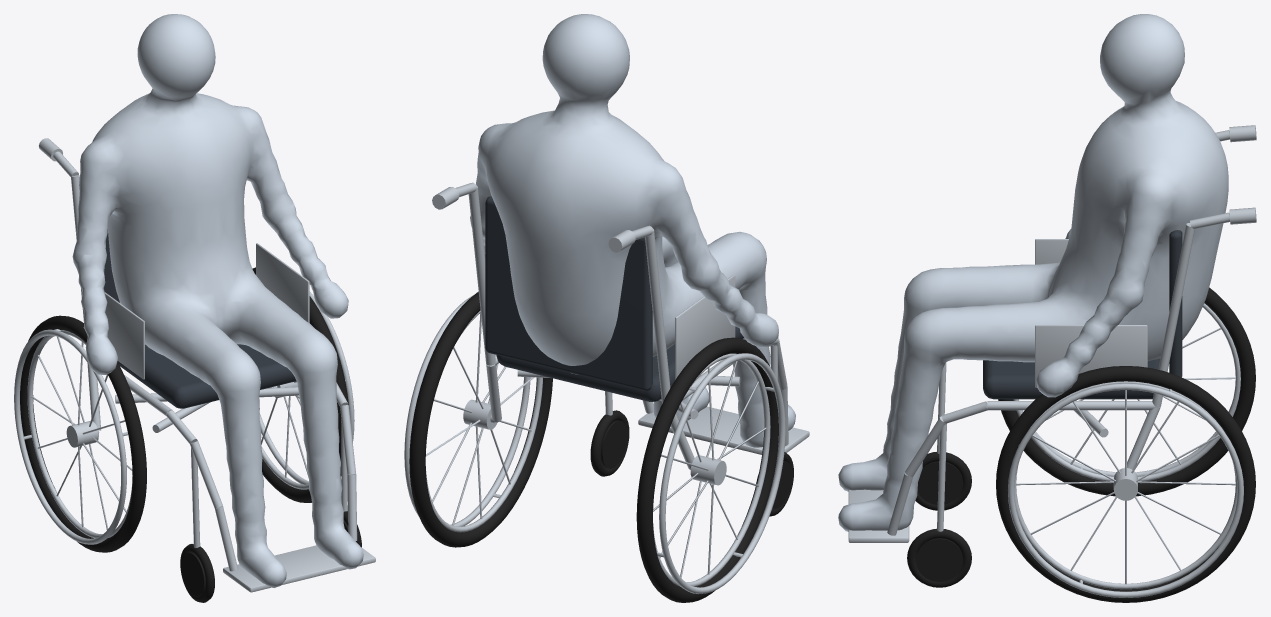
The model's file is wheelchair_avatar.glb.
3 renders of one model, left to right at view 1: azimuth 30°, elevation 25°; view 2: azimuth 150°, elevation 25°; view 3: azimuth 270°, elevation 25°, orthographic. The views are drawn at different scales.
Visible parts, largest first — view 1: Figure, Wheel_L_Rim, Chair_Frame, Chair_Plates, Wheel_L_Tire, Chair_Seat, Wheel_R_Rim, Wheel_R_Tire, Caster_L; view 2: Figure, Chair_Seat, Wheel_L_Rim, Wheel_L_Tire, Chair_Frame, Wheel_R_Tire, Wheel_R_Rim, Chair_Plates, Caster_R, Caster_L; view 3: Figure, Wheel_R_Rim, Wheel_R_Tire, Chair_Frame, Chair_Plates, Wheel_L_Tire, Chair_Seat, Wheel_L_Rim, Caster_R, Caster_L.
Part boxes in pixels (bbox=[...]): Figure: bbox=[72, 14, 363, 587]; Wheel_L_Rim: bbox=[14, 329, 132, 544]; Chair_Frame: bbox=[39, 138, 357, 571]; Chair_Plates: bbox=[105, 243, 375, 592]; Wheel_L_Tire: bbox=[20, 315, 146, 552]; Chair_Seat: bbox=[104, 229, 296, 408]; Wheel_R_Rim: bbox=[259, 291, 354, 489]; Wheel_R_Tire: bbox=[252, 267, 348, 502]; Caster_L: bbox=[180, 544, 214, 602]; Figure: bbox=[470, 14, 795, 447]; Chair_Seat: bbox=[485, 196, 743, 401]; Wheel_L_Rim: bbox=[653, 353, 785, 593]; Wheel_L_Tire: bbox=[636, 337, 778, 602]; Chair_Frame: bbox=[432, 182, 788, 469]; Wheel_R_Tire: bbox=[409, 291, 552, 547]; Wheel_R_Rim: bbox=[404, 295, 542, 532]; Chair_Plates: bbox=[638, 275, 809, 454]; Caster_R: bbox=[590, 410, 629, 476]; Caster_L: bbox=[756, 452, 793, 516]; Figure: bbox=[838, 14, 1228, 531]; Wheel_R_Rim: bbox=[1008, 381, 1243, 597]; Wheel_R_Tire: bbox=[996, 366, 1255, 602]; Chair_Frame: bbox=[887, 125, 1256, 535]; Chair_Plates: bbox=[848, 239, 1147, 542]; Wheel_L_Tire: bbox=[998, 287, 1255, 496]; Chair_Seat: bbox=[983, 230, 1182, 399]; Wheel_L_Rim: bbox=[1013, 303, 1240, 481]; Caster_R: bbox=[907, 528, 971, 587]; Caster_L: bbox=[915, 452, 971, 510].
Bounding box in the file's own units: 0.7335 × 1.35 × 0.9649.
